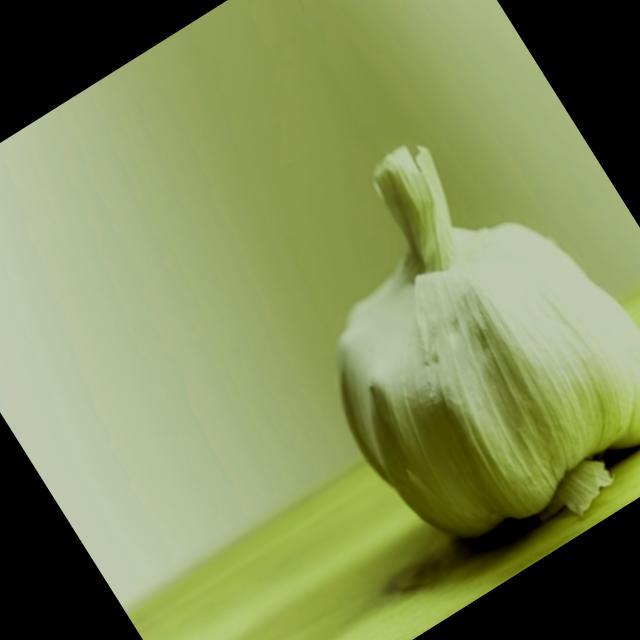garlic: (339, 146, 640, 536)
